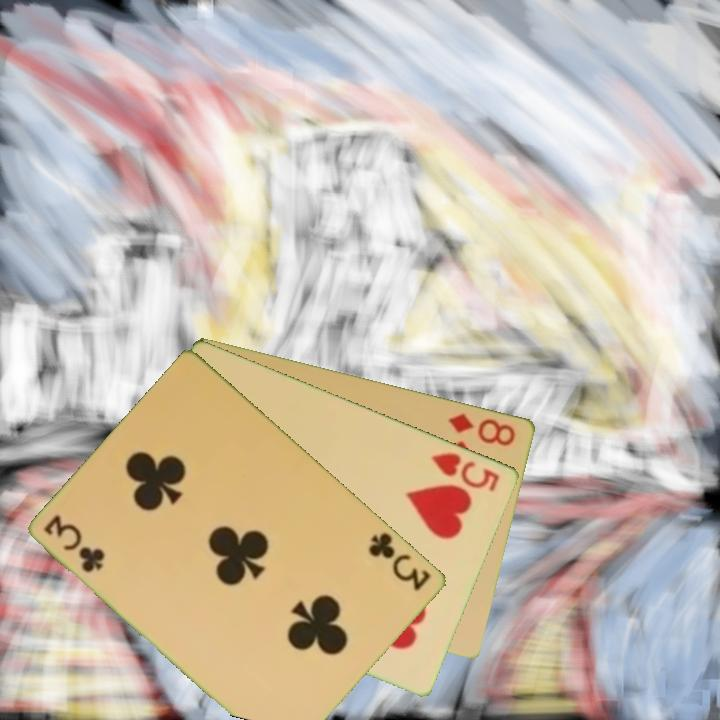3c: (365, 529, 435, 594), (40, 511, 108, 576)
5h: (428, 448, 503, 494)
8d: (445, 409, 519, 449)
